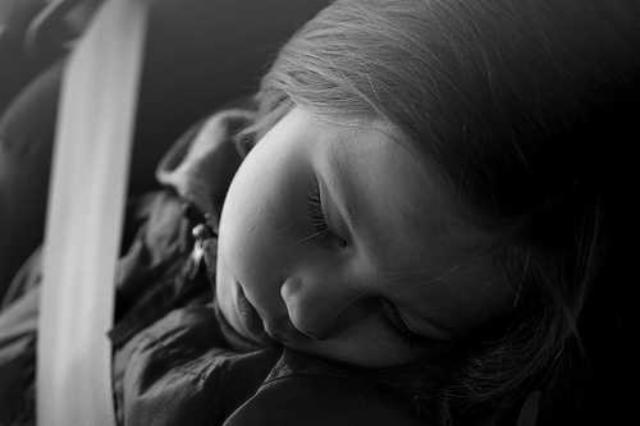Seatbelt: (29, 0, 155, 426)
